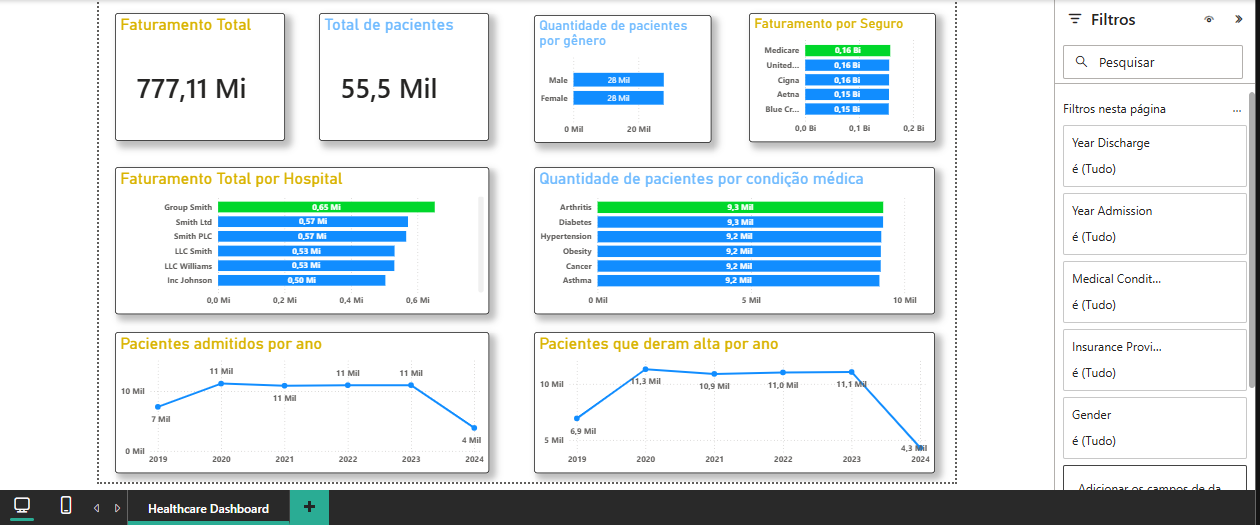

This screenshot's page, from the dashboard's own definition file:
{"tool":"powerbi","page":{"name":"Healthcare Dashboard","canvas":[1280,720],"ordinal":0},"visuals":[{"type":"cardVisual","title":"Faturamento Total","fields":{"Data":["Sum(healthcare_dataset.Billing Amount)"]},"box":[23.9,19.9,253.9,191.2],"z":0},{"type":"cardVisual","title":"Total de pacientes","fields":{"Data":["CountNonNull(healthcare_dataset.Age)"]},"box":[328.6,19.9,253.9,191.2],"z":1000},{"type":"barChart","title":"Faturamento por Seguro","fields":{"Category":["healthcare_dataset.Insurance Provider"],"Y":["Sum(healthcare_dataset.Billing Amount)"]},"box":[970.9,20.2,278.8,193.2],"z":2000},{"type":"barChart","title":"Quantidade de pacientes por gênero","fields":{"Category":["healthcare_dataset.Gender"],"Y":["CountNonNull(healthcare_dataset.Name)"]},"box":[650.1,21.8,265.4,191.5],"z":3000},{"type":"barChart","title":"Faturamento Total por Hospital","fields":{"Category":["healthcare_dataset.Hospital"],"Y":["Sum(healthcare_dataset.Billing Amount)"]},"box":[23.9,250,558.7,219.6],"z":4000},{"type":"barChart","title":"Quantidade de pacientes por condição médica","fields":{"Category":["healthcare_dataset.Medical Condition"],"Y":["CountNonNull(healthcare_dataset.Name)"]},"box":[649.8,250,599,219.6],"z":5000},{"type":"lineChart","title":"Pacientes admitidos por ano","fields":{"Category":["healthcare_dataset.Date of Admission.Variation.Hierarquia de datas.Ano"],"Y":["CountNonNull(healthcare_dataset.Name)"]},"box":[23.9,495.9,558.7,210.6],"z":6000},{"type":"lineChart","title":"Pacientes que deram alta por ano","fields":{"Category":["healthcare_dataset.Discharge Date.Variation.Hierarquia de datas.Ano"],"Y":["CountNonNull(healthcare_dataset.Name)"]},"box":[650,496,599,211],"z":7000}]}

Visuals, with their boxes on the page's 1280x720 design canvas (x1, y1, x2, y2). These are canvas units, not pixel positions in the 1260x525 screenshot, which may show the page scaled, cropped or inside an application window:
"Faturamento Total" cardVisual: 24:20:278:211
"Total de pacientes" cardVisual: 329:20:582:211
"Faturamento por Seguro" barChart: 971:20:1250:213
"Quantidade de pacientes por gênero" barChart: 650:22:916:213
"Faturamento Total por Hospital" barChart: 24:250:583:470
"Quantidade de pacientes por condição médica" barChart: 650:250:1249:470
"Pacientes admitidos por ano" lineChart: 24:496:583:706
"Pacientes que deram alta por ano" lineChart: 650:496:1249:707
